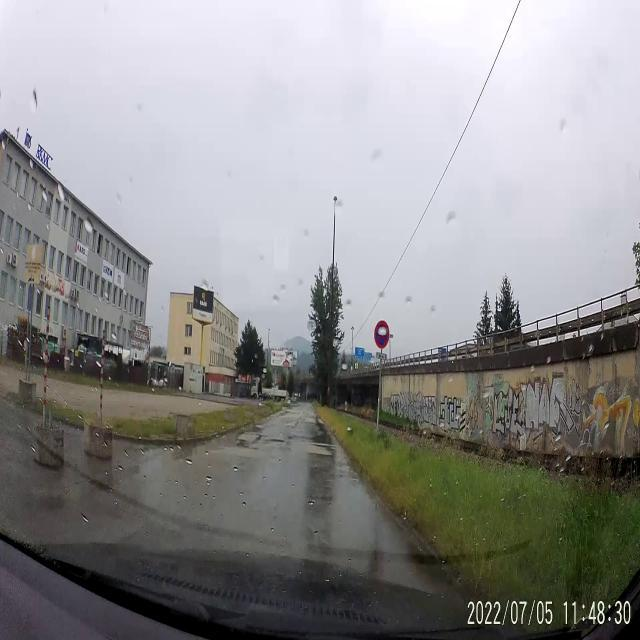Pothole: (264, 430, 288, 448)
